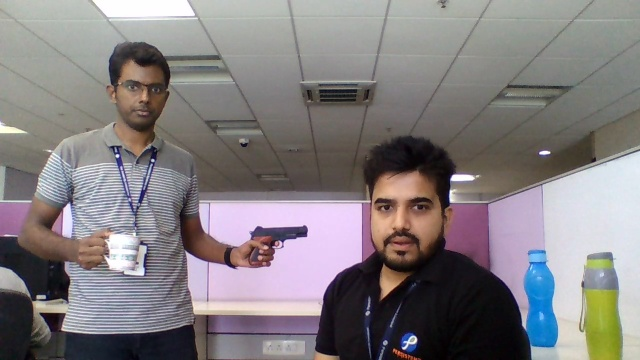gun: (249, 225, 307, 240)
